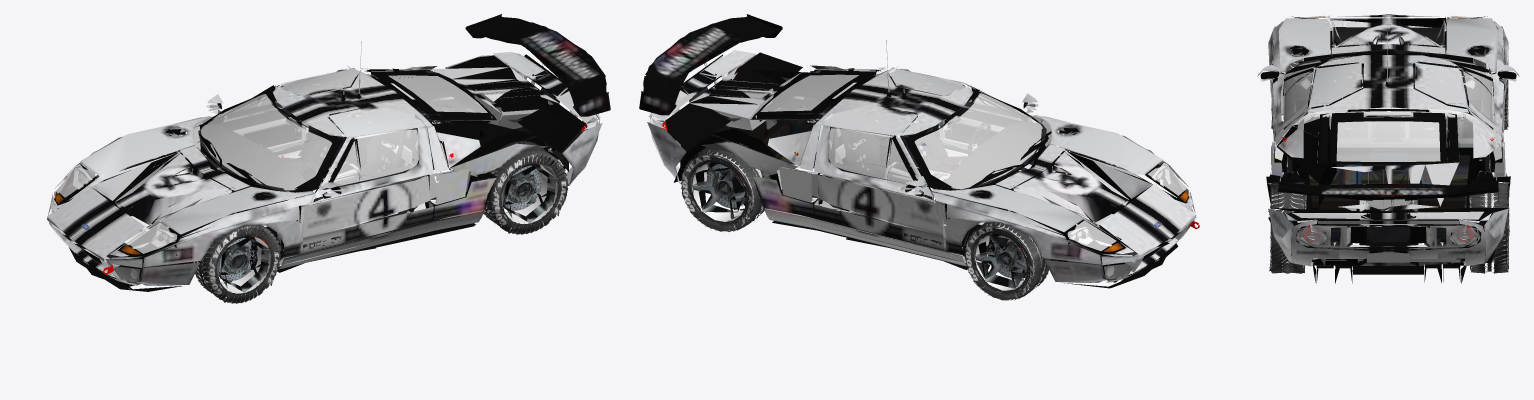
File: veh-ford-gt.glb
The picture shows the model from 3 angles, left to right: view 1: azimuth 30°, elevation 25°; view 2: azimuth 150°, elevation 25°; view 3: azimuth 270°, elevation 25°; orthographic projection. The views are drawn at different scales.
Visible parts, largest first — view 1: p0; view 2: p0; view 3: p0.
Part boxes in pixels (x1,y1,x2,y2): p0: [47, 14, 610, 303]; p0: [639, 14, 1199, 300]; p0: [1257, 14, 1519, 283].
Size of the model in its own units: 5.05 by 2.34 by 2.2.
Materials: 44 (14 with a texture image).
